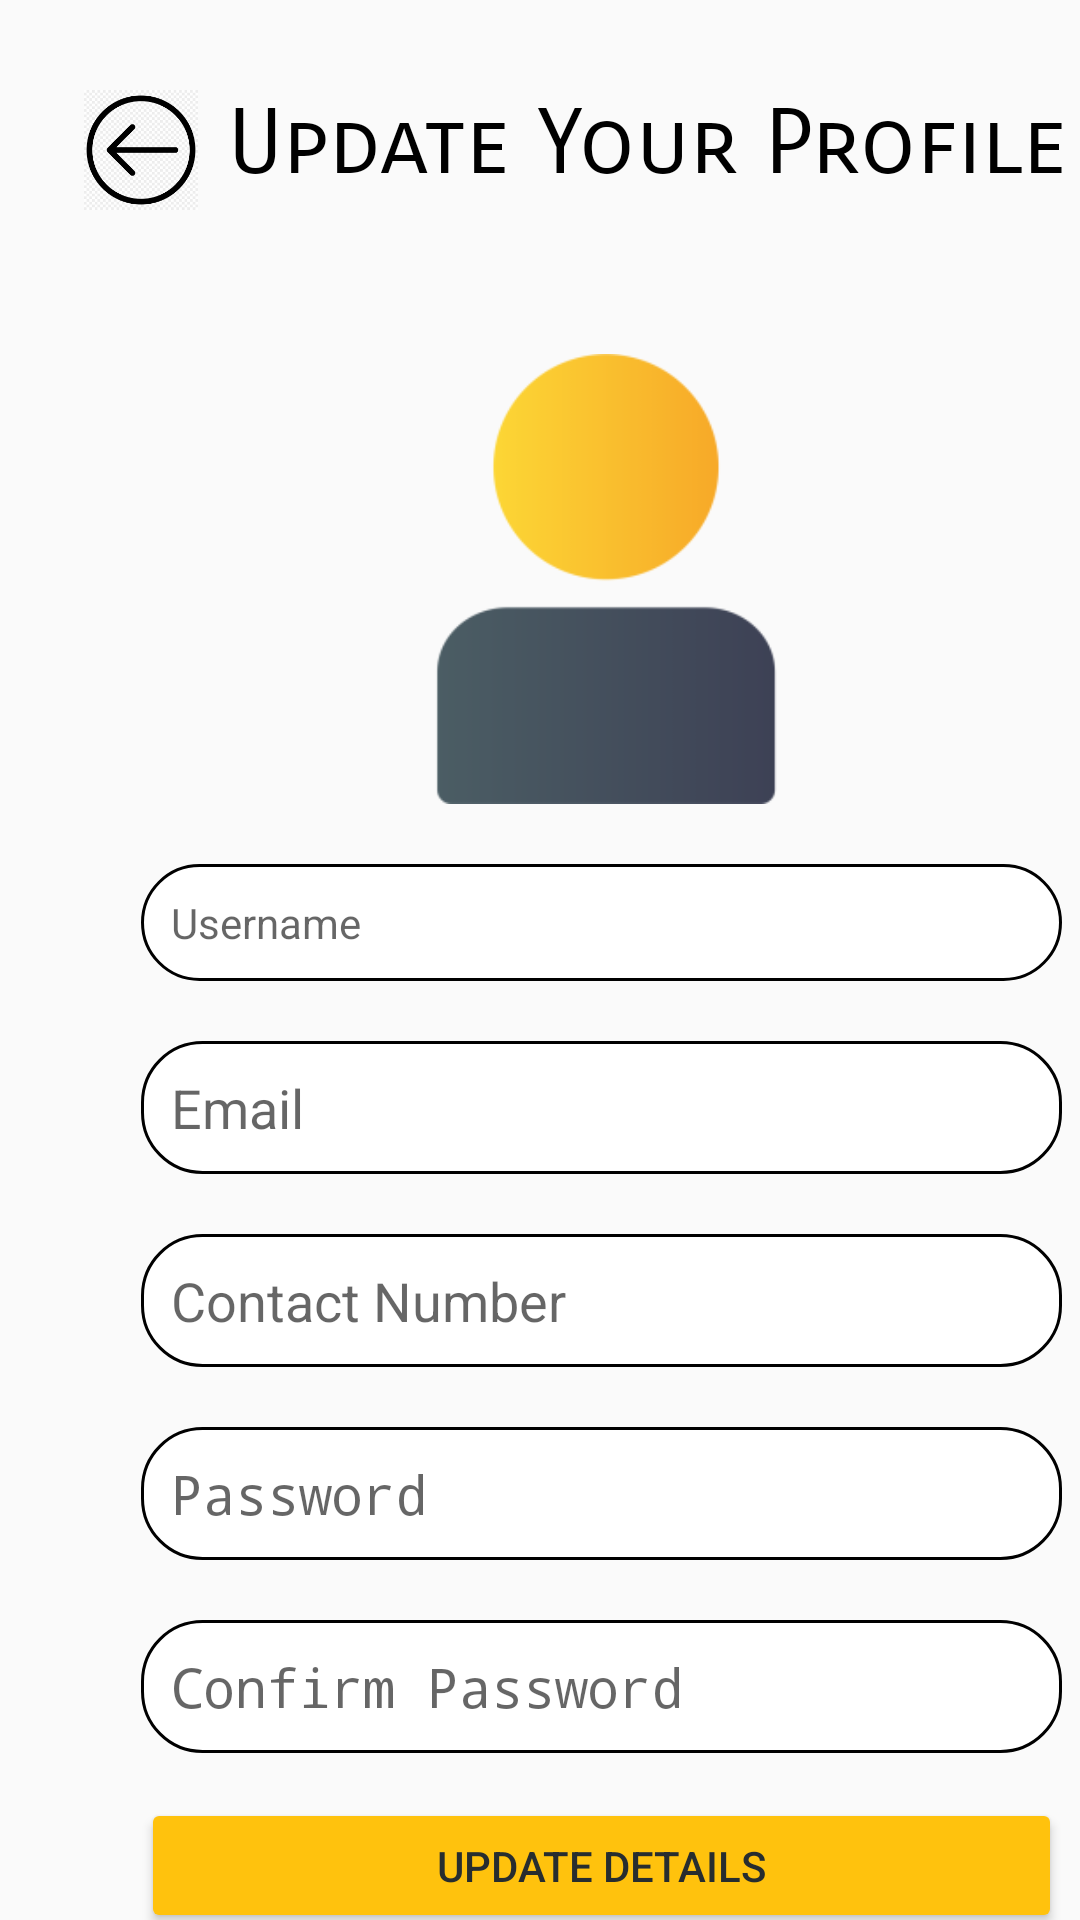

Point at icon controls on the screen. Image size 1080×1920, points as point (x, y).
back: point (141, 150)
